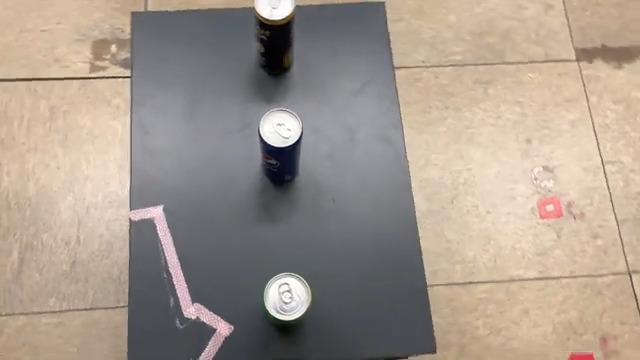OranSoda: (248, 0, 298, 82)
Pepsi: (254, 106, 306, 190)
Sprite: (259, 270, 315, 330)
